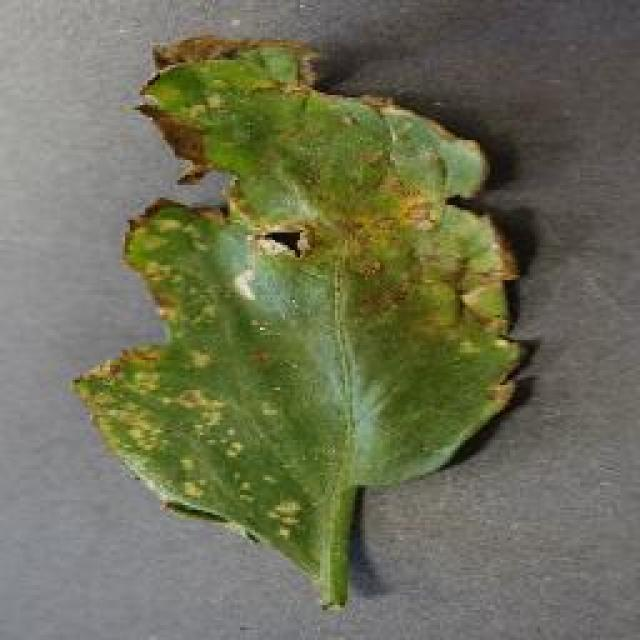Tomato bacterial spot leaf: (75, 30, 530, 575)
